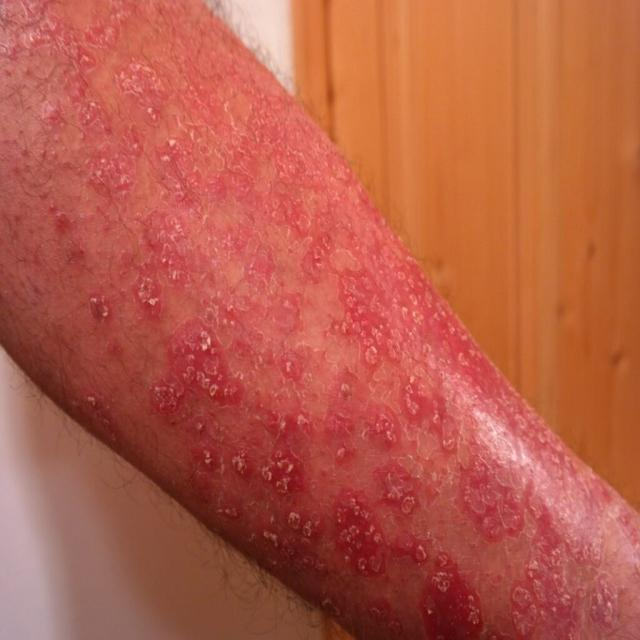Eczema: (12, 0, 632, 640)
